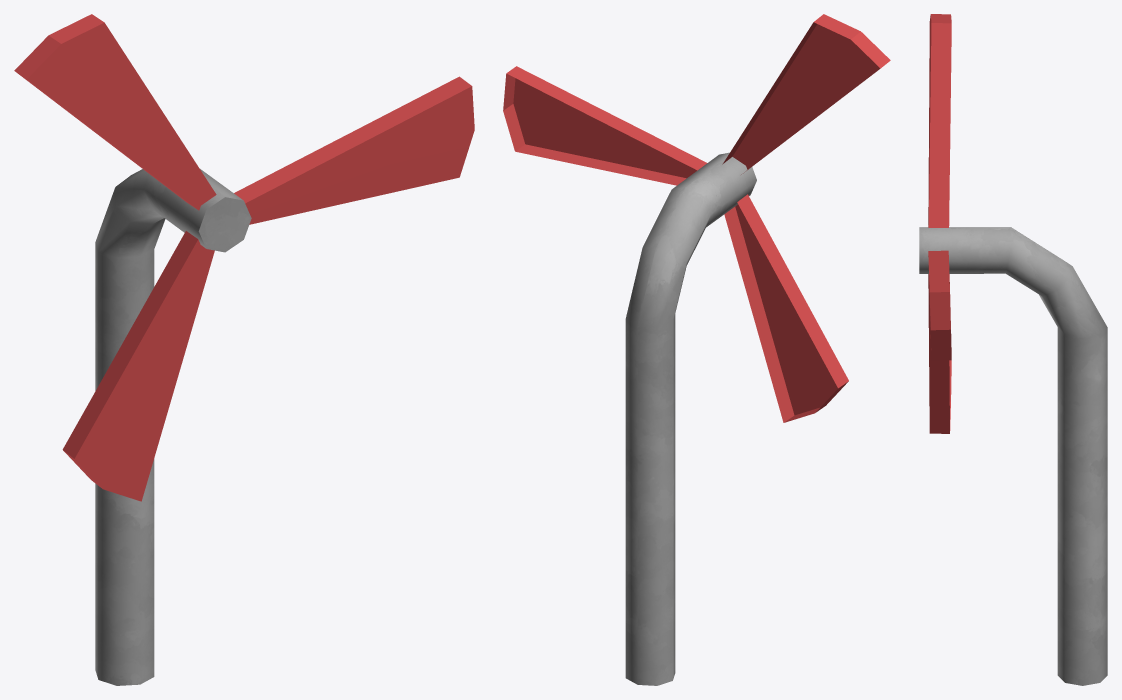
Rendered from FBX_Helice_Pitie.fbx.
3 renders of one model, left to right at view 1: azimuth 30°, elevation 25°; view 2: azimuth 150°, elevation 25°; view 3: azimuth 270°, elevation 25°, orthographic. The views are drawn at different scales.
Parts seen in each view (by area): view 1: SK_Helice3_2, SM_Base3_2; view 2: SK_Helice3_2, SM_Base3_2; view 3: SM_Base3_2, SK_Helice3_2.
Boxes of the visible parts, <box> form: SK_Helice3_2: <box>14,14,474,501</box>; SM_Base3_2: <box>95,169,251,685</box>; SK_Helice3_2: <box>503,14,890,422</box>; SM_Base3_2: <box>625,152,756,685</box>; SM_Base3_2: <box>919,227,1107,685</box>; SK_Helice3_2: <box>928,14,951,433</box>.
Size of the model in its own units: 57.11 by 90.79 by 25.47.
